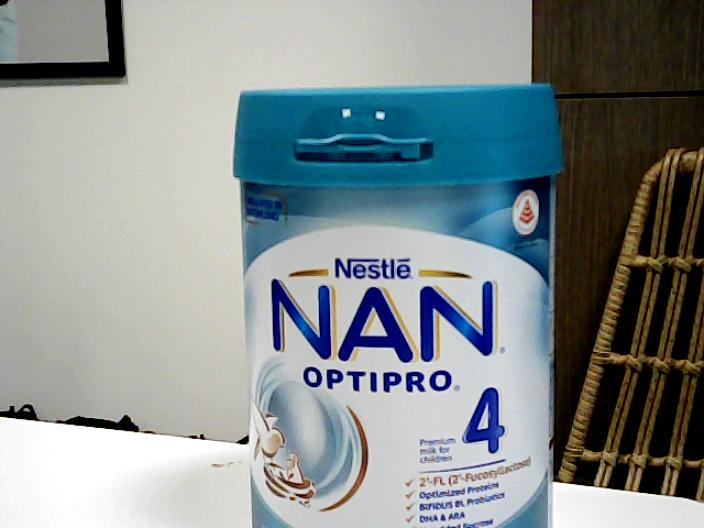Babymilk-powder_800-899g_Halal_Healthy: (232, 83, 565, 528)
